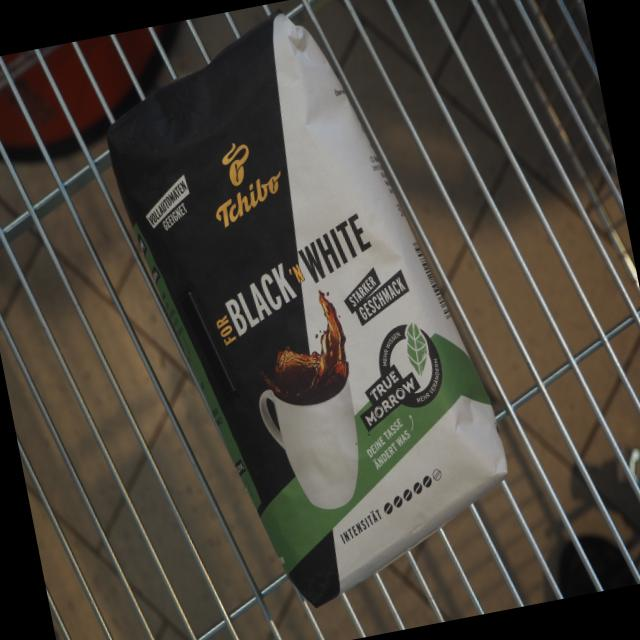BW Bohne: (82, 0, 533, 638)
